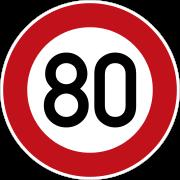Speed Limit -80-: (22, 33, 155, 149)
